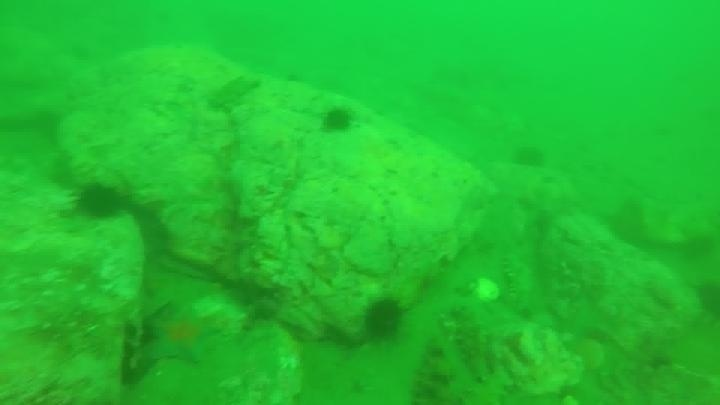echinus: (73, 181, 125, 223), (361, 296, 406, 343), (693, 277, 720, 322), (319, 105, 355, 136), (511, 143, 547, 171)
holothurian: (446, 305, 494, 383), (408, 338, 458, 404), (116, 314, 154, 389), (501, 249, 537, 316)
starfish: (143, 305, 222, 367)
